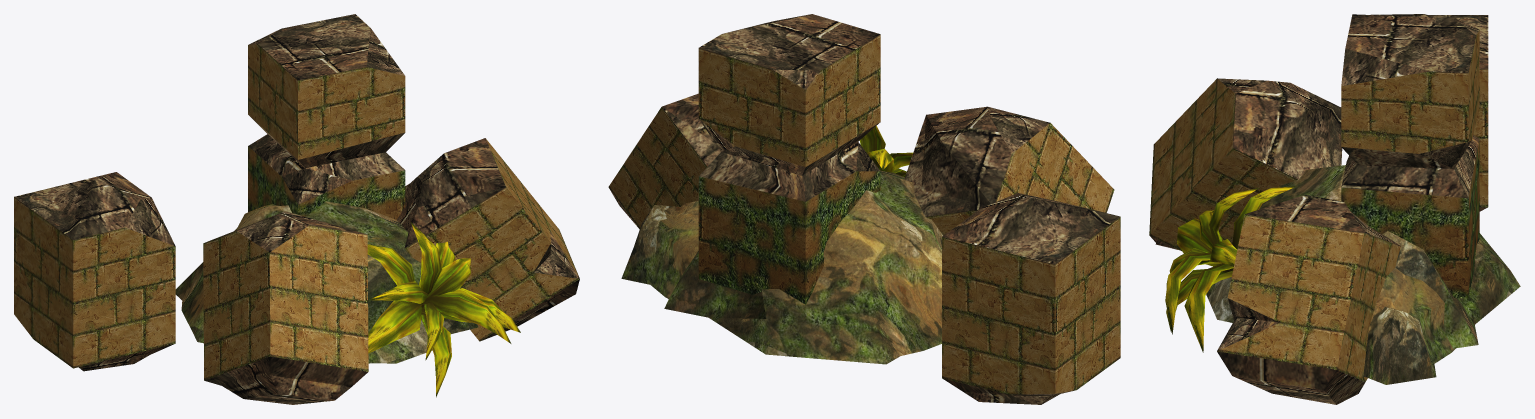
The model's file is Ruins04.FBX.
The picture shows the model from 3 angles, left to right: view 1: azimuth 30°, elevation 25°; view 2: azimuth 150°, elevation 25°; view 3: azimuth 270°, elevation 25°; orthographic projection. The views are drawn at different scales.
Visible parts, largest first — view 1: Pillar (×4), Weeds, Rock; view 2: Pillar (×4), Rock, Plane37, Weeds; view 3: Pillar (×4), Rock, Plane37, Weeds.
Part boxes in pixels (x1,y1,x2,y2): Pillar (×4): (14,14,579,404); Weeds: (367,222,520,397); Rock: (175,201,478,363); Pillar (×4): (608,14,1120,404); Rock: (664,170,942,364); Plane37: (621,201,698,298); Weeds: (859,126,912,177); Pillar (×4): (1149,14,1488,404); Rock: (1206,165,1520,348); Plane37: (1363,267,1455,384); Weeds: (1165,186,1295,352).
Bounding box in the file's own units: 690 × 374 × 433.
